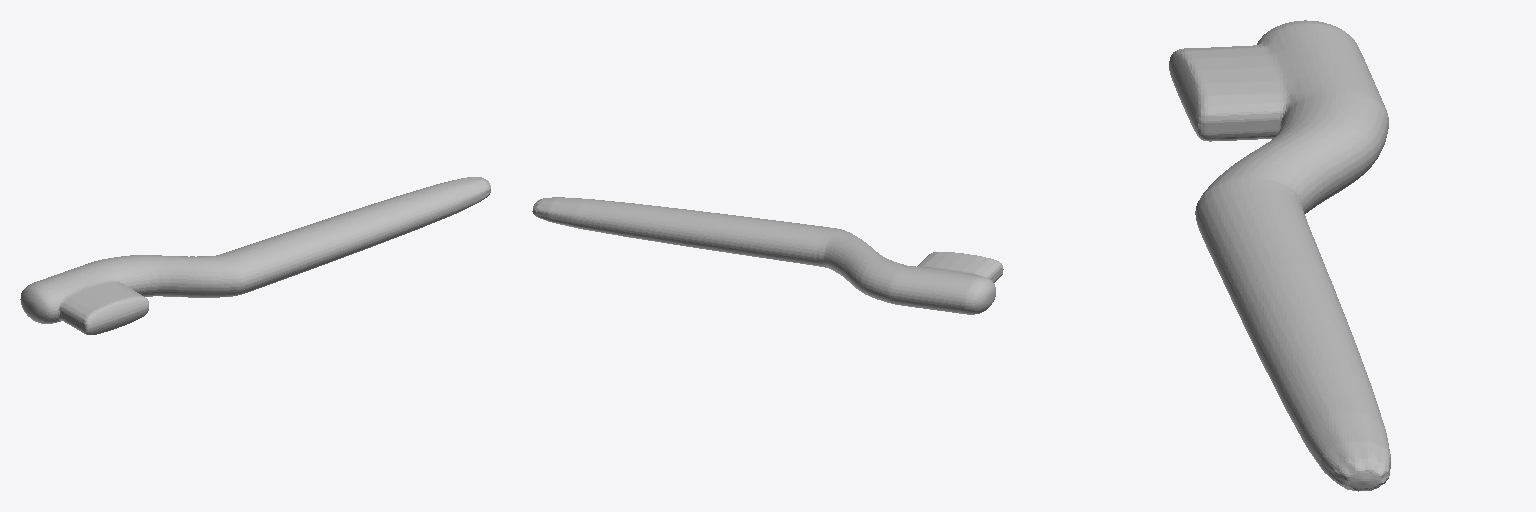
URDF robot description (root):
<robot name="root">
  <link name="link_001">
    <visual>
      <origin xyz="0 0 0" rpy="0 0 0"/>
      <geometry>
        <mesh filename="toothbrush.obj" scale="1.0000E+00 1.5000E+00 1.0000E+00"/>
      </geometry>
      <material name="">
        <color rgba="7.50E-01 7.50E-01 7.50E-01 1"/>
      </material>
    </visual>
    <collision>
      <origin xyz="0 0 0" rpy="0 0 0"/>
      <geometry>
        <mesh filename="toothbrush.obj" scale="1.0000E+00 1.5000E+00 1.0000E+00"/>
      </geometry>
    </collision>
    <inertial>
      <mass value="0.16"/> <!-- 质量：0.1kg -->
    </inertial>
  </link>
</robot>

--- Facts derived from the render (not from the file) ---
The picture shows the robot from 3 angles, left to right: view 1: azimuth 30°, elevation 25°; view 2: azimuth 150°, elevation 25°; view 3: azimuth 270°, elevation 25°; orthographic projection.
Robot: root — 1 links, 0 joints (none); root link link_001; default pose: all joints at 0.
Visible links, largest first — view 1: link_001; view 2: link_001; view 3: link_001.
Boxes of the visible links, left/top/right/bottom form: link_001: left=20, top=177, right=490, bottom=334; link_001: left=532, top=197, right=1003, bottom=314; link_001: left=1169, top=20, right=1390, bottom=491.
Size in the robot's own frame: 0.1649 by 0.0361 by 0.0124 metres.
Meshes: 1 distinct files referenced, 1 mesh visuals loaded (1 OBJ).
